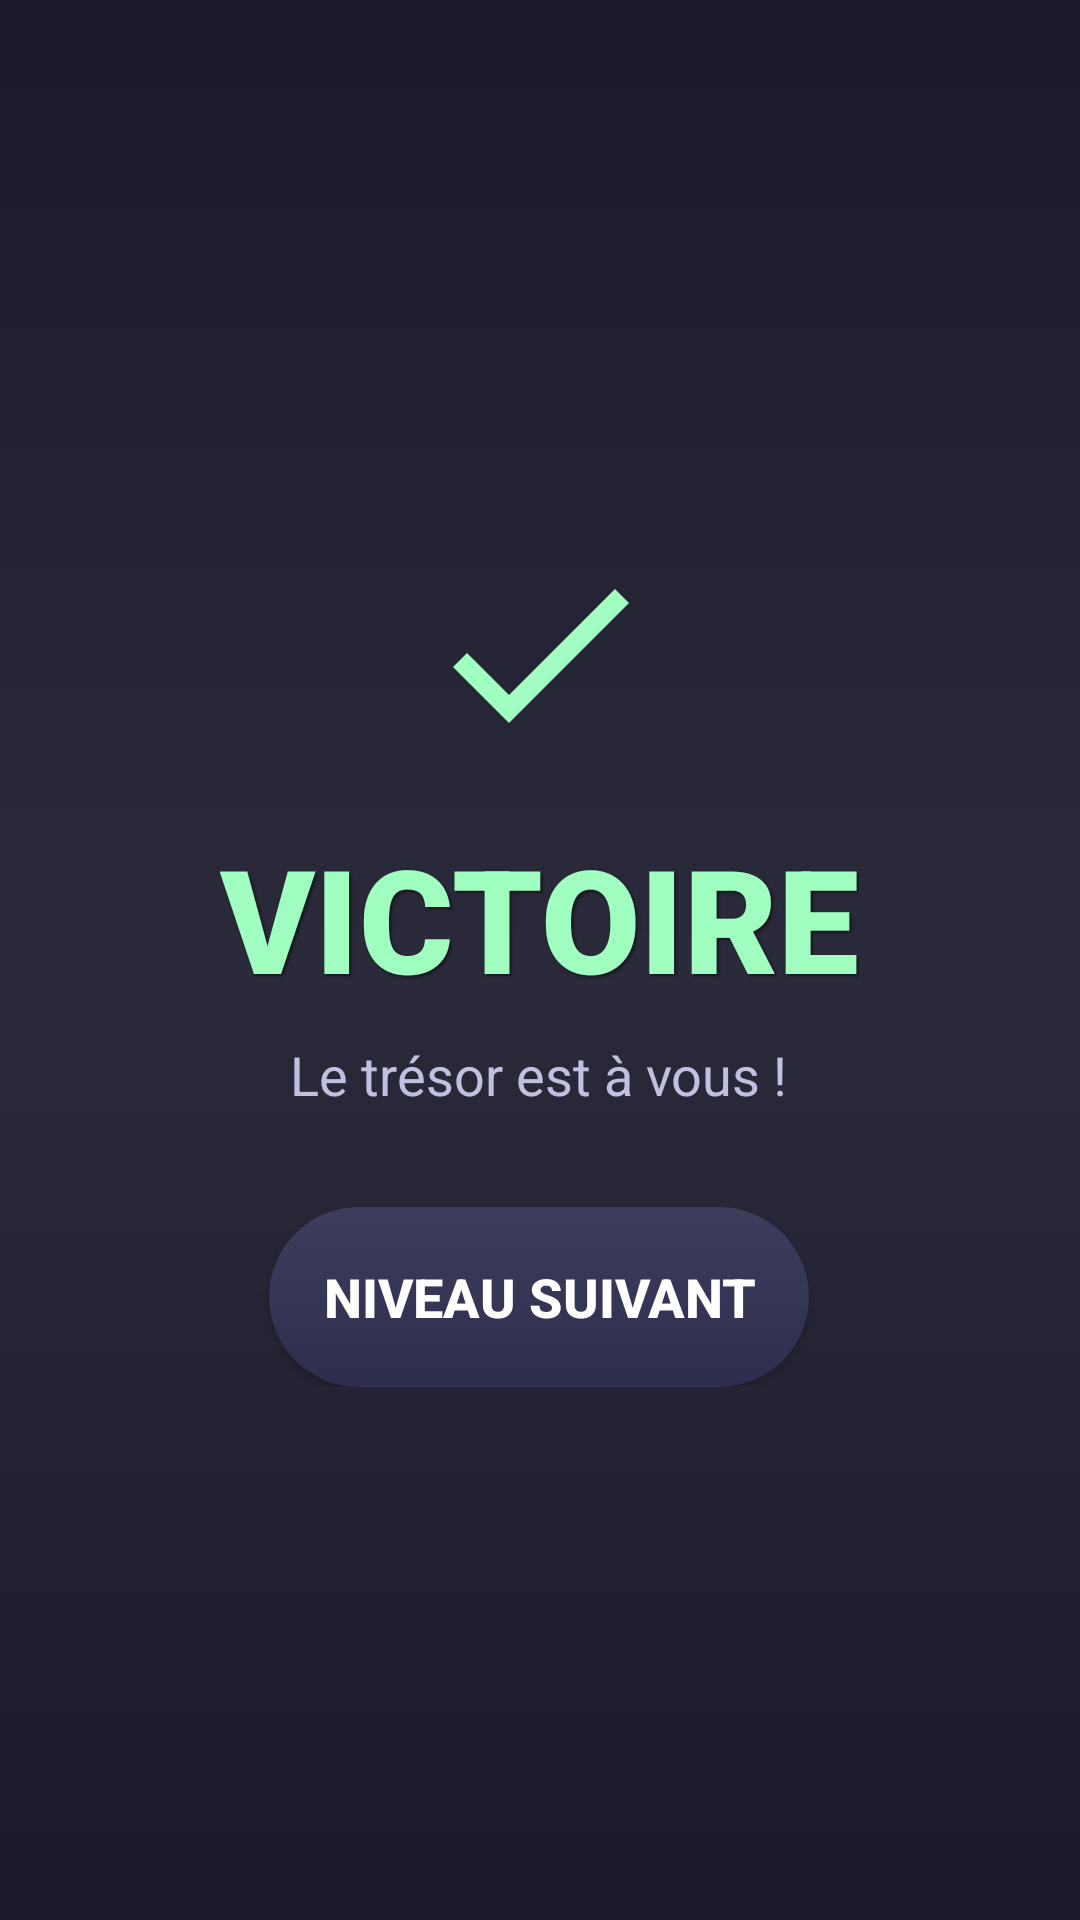

Icons on this 1080x1920 Android screen, each with its box as (x1, y1, x2, y2):
victory: (453, 589, 629, 723)
